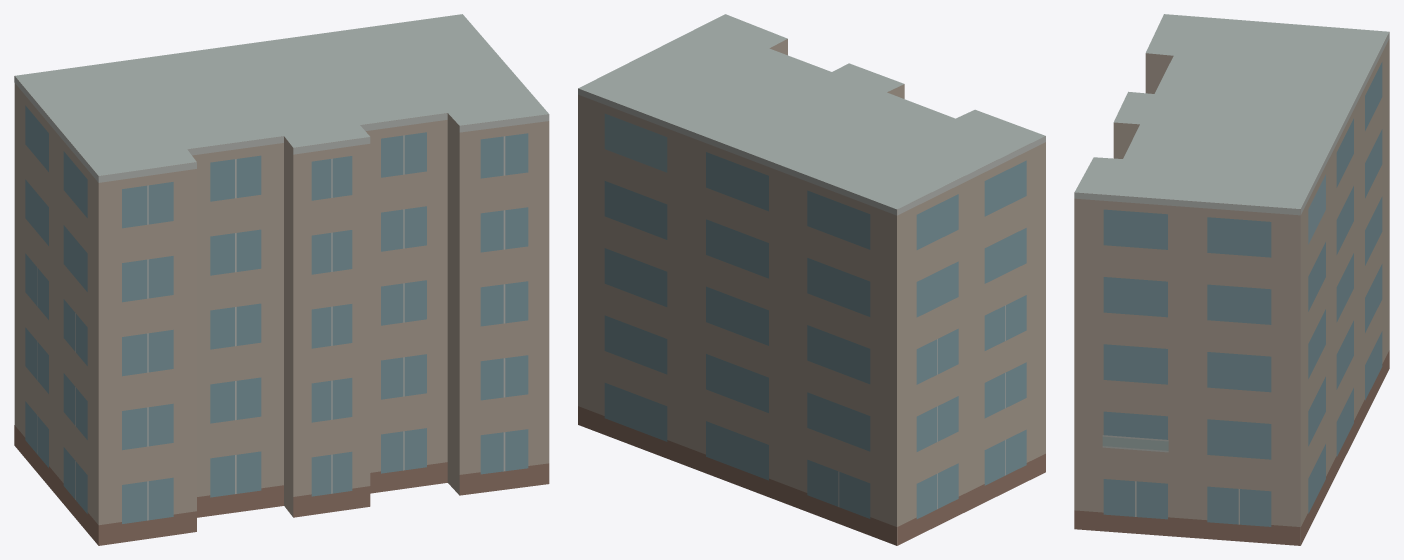
The model's file is survey-upis-32869224.glb.
3 views of the same model, side by side, from view 1: azimuth 30°, elevation 25°; view 2: azimuth 150°, elevation 25°; view 3: azimuth 270°, elevation 25° (orthographic). The views are drawn at different scales.
Visible parts, largest first — view 1: survey-upis-32869224.tmp; view 2: survey-upis-32869224.tmp; view 3: survey-upis-32869224.tmp.
Part boxes in pixels (<box>): survey-upis-32869224.tmp: <box>14,14,549,545</box>; survey-upis-32869224.tmp: <box>578,14,1045,545</box>; survey-upis-32869224.tmp: <box>1074,14,1389,545</box>.
Bounding box in the file's own units: 16.41 × 13.2 × 11.21.
